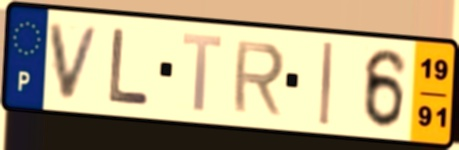6: (361, 46, 409, 132)
I: (317, 39, 336, 129)
L: (107, 25, 154, 107)
R: (229, 39, 288, 119)
T: (180, 30, 226, 115)
V: (46, 21, 104, 103)
